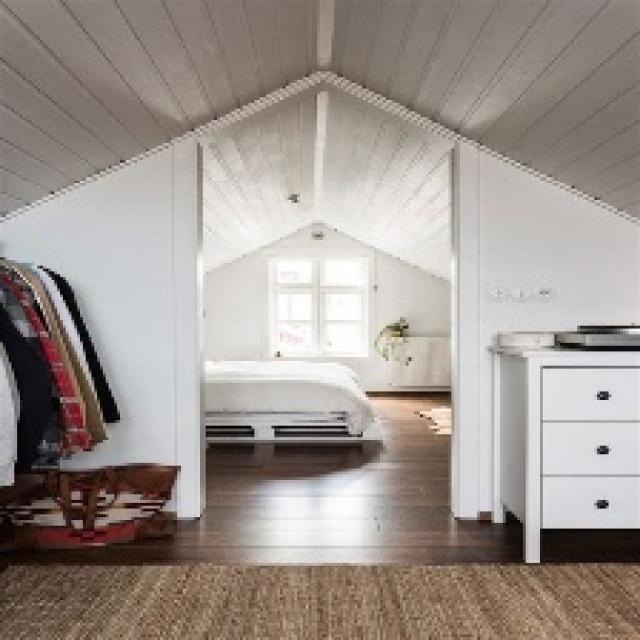bed: (204, 341, 388, 460)
cabinet: (485, 311, 640, 571)
